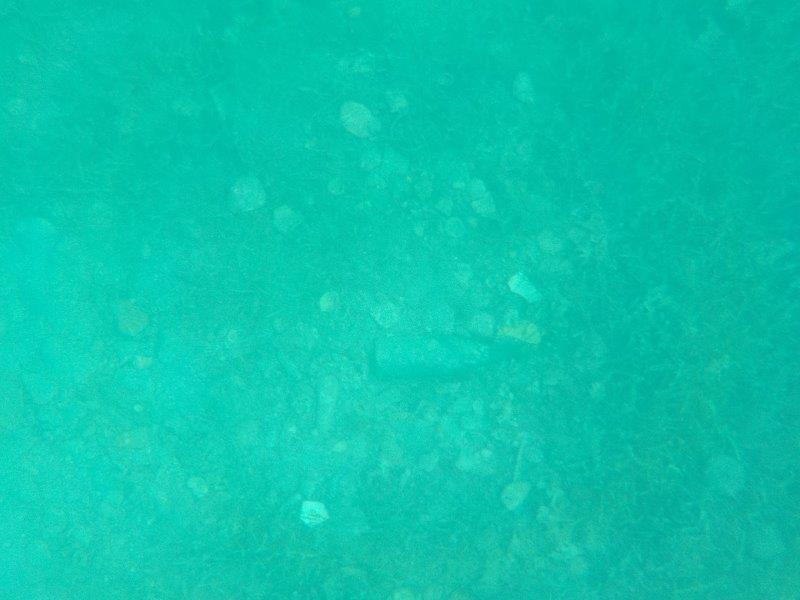bottle: (365, 325, 531, 385)
